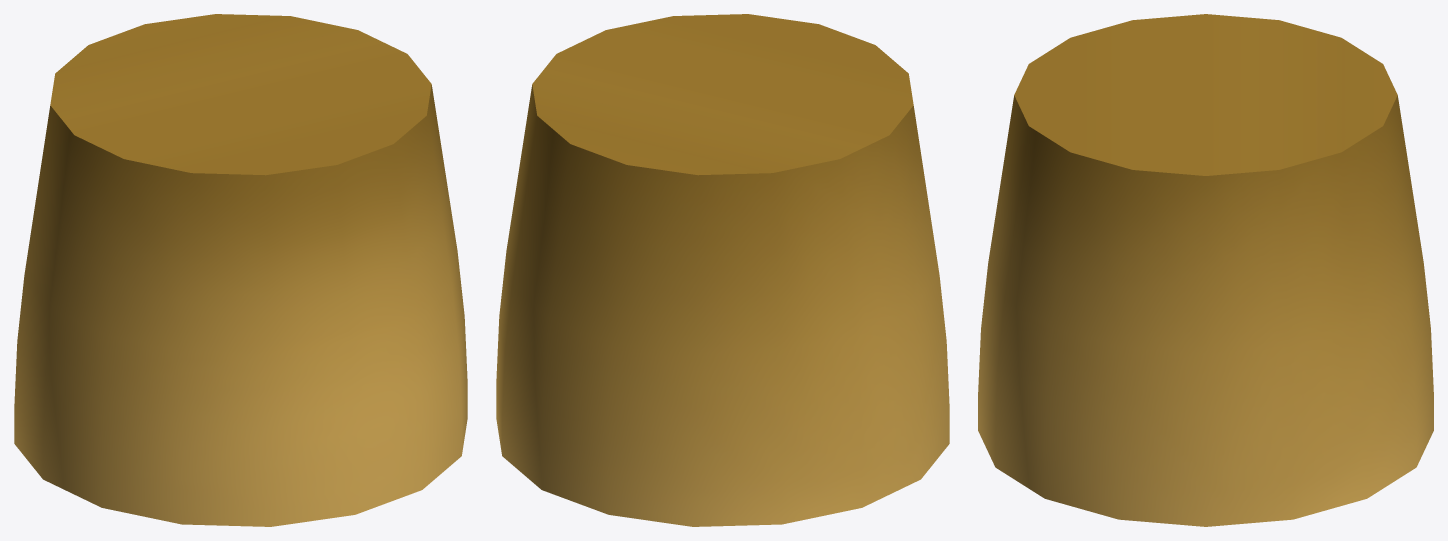
Rendered from jamur potong 2 fix.fbx.
The picture shows the model from 3 angles, left to right: view 1: azimuth 30°, elevation 25°; view 2: azimuth 150°, elevation 25°; view 3: azimuth 270°, elevation 25°; orthographic projection.
Visible parts, largest first — view 1: Cylinder.001; view 2: Cylinder.001; view 3: Cylinder.001.
Part boxes in pixels (left/top/right/bottom): Cylinder.001: left=14, top=14, right=467, bottom=526; Cylinder.001: left=496, top=14, right=949, bottom=526; Cylinder.001: left=978, top=14, right=1433, bottom=526.
Bounding box in the file's own units: 525 × 426 × 525.
